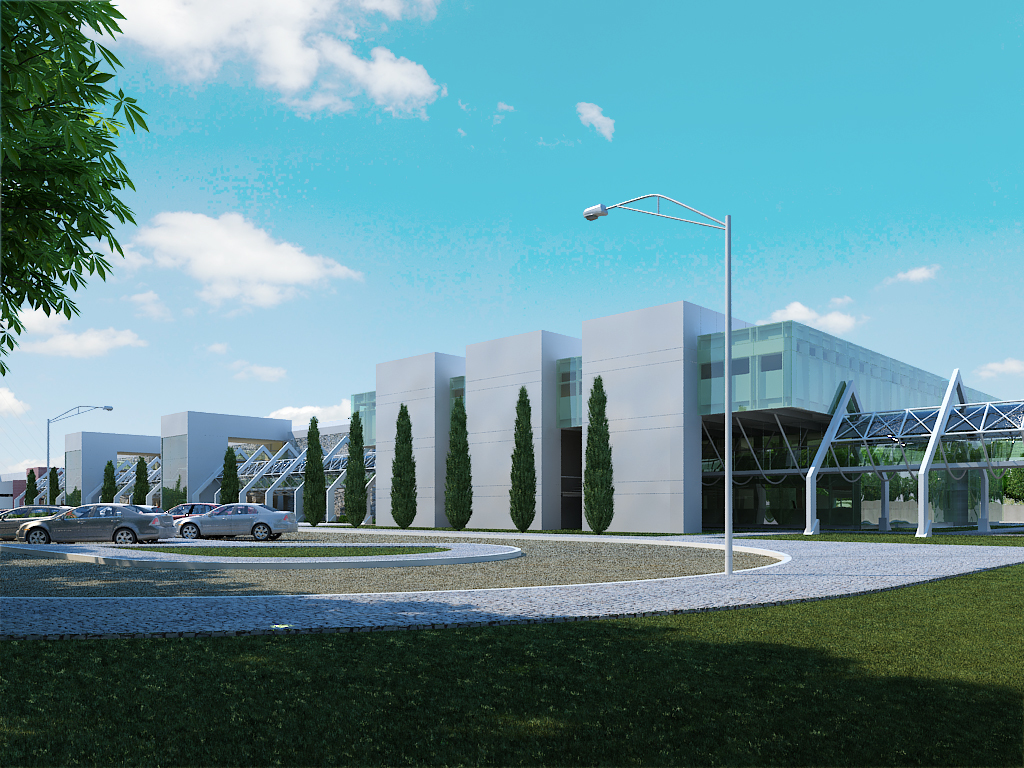Car: (1, 503, 298, 540)
